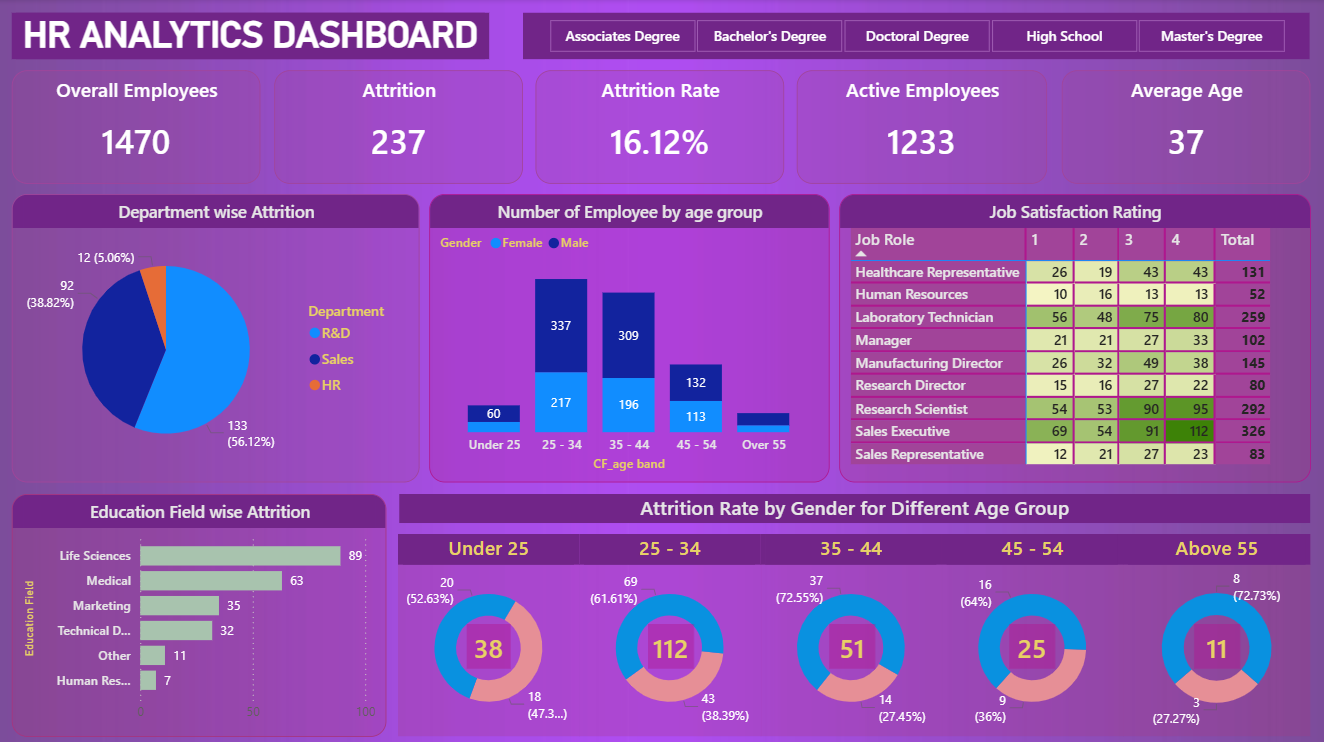

The page's visual inventory and layout, read from the dashboard file:
{"tool":"powerbi","page":{"name":"Page 1","canvas":[1280,720],"ordinal":0},"visuals":[{"type":"cardVisual","title":"Overall Employees","fields":{"Data":["CountNonNull(HR data.Employee Count)"]},"box":[13.3,68.8,240.1,109.8],"z":0},{"type":"cardVisual","title":"Attrition","fields":{"Data":["Sum(HR data.Attrition Count)"]},"box":[266.6,68.8,240.1,109.8],"z":1000},{"type":"cardVisual","title":"Attrition Rate","fields":{"Data":["HR data.Attrition Rate"]},"box":[518.8,68.8,240.1,109.8],"z":2000},{"type":"cardVisual","title":"Active Employees","fields":{"Data":["HR data.Active Employees"]},"box":[770.9,68.8,241.3,109.8],"z":3000},{"type":"cardVisual","title":"Average Age","fields":{"Data":["Avg(HR data.Age)"]},"box":[1026.7,68.8,240.1,109.8],"z":4000},{"type":"pieChart","title":"Department wise Attrition","fields":{"Category":["HR data.Department"],"Y":["Sum(HR data.Attrition Count)"]},"box":[13.3,188.2,393.3,278.7],"z":5000},{"type":"columnChart","title":"Number of Employee by age group","fields":{"Category":["HR data.CF_age band"],"Y":["Sum(HR data.Employee Count)"],"Series":["HR data.Gender"]},"box":[416.2,188.2,386.1,278.7],"z":6000},{"type":"pivotTable","title":"Job Satisfaction Rating","fields":{"Rows":["HR data.Job Role"],"Columns":["HR data.Job Satisfaction"],"Values":["Sum(HR data.Employee Count)"]},"box":[811.9,188.2,454.8,278.7],"z":7000},{"type":"barChart","title":"Education Field wise Attrition","fields":{"Category":["HR data.Education Field"],"Y":["Sum(HR data.Attrition Count)"]},"box":[13.3,477.8,361.9,234],"z":8000},{"type":"donutChart","title":"Under 25","fields":{"Category":["HR data.Gender"],"Y":["Sum(HR data.Attrition Count)"],"Series":["HR data.CF_age band"]},"box":[386.1,516.4,174.9,195.4],"z":9000},{"type":"textbox","title":"Attrition Rate by Gender for Different Age Group","box":[387.3,477.8,879.5,25.3],"z":10000},{"type":"donutChart","title":"25 - 34","fields":{"Category":["HR data.Gender"],"Y":["Sum(HR data.Attrition Count)"],"Series":["HR data.CF_age band"]},"box":[561,516.4,174.9,195.4],"z":11000},{"type":"donutChart","title":"35 - 44","fields":{"Category":["HR data.Gender"],"Y":["Sum(HR data.Attrition Count)"],"Series":["HR data.CF_age band"]},"box":[735.9,516.4,174.9,195.4],"z":12000},{"type":"donutChart","title":"45 - 54","fields":{"Category":["HR data.Gender"],"Y":["Sum(HR data.Attrition Count)"],"Series":["HR data.CF_age band"]},"box":[910.9,516.4,174.9,195.4],"z":13000},{"type":"donutChart","title":"Above 55","fields":{"Category":["HR data.Gender"],"Y":["Sum(HR data.Attrition Count)"],"Series":["HR data.CF_age band"]},"box":[1085.8,516.4,181,195.4],"z":14000},{"type":"cardVisual","fields":{"Data":["Sum(HR data.Attrition Count)"]},"box":[452.4,603.2,42.2,43.4],"z":15000},{"type":"cardVisual","fields":{"Data":["Sum(HR data.Attrition Count)"]},"box":[627.3,603.2,44.6,43.4],"z":16000},{"type":"cardVisual","fields":{"Data":["Sum(HR data.Attrition Count)"]},"box":[802.3,603.2,44.6,43.4],"z":17000},{"type":"cardVisual","fields":{"Data":["Sum(HR data.Attrition Count)"]},"box":[976,603.2,44.6,43.4],"z":18000},{"type":"cardVisual","fields":{"Data":["Sum(HR data.Attrition Count)"]},"box":[1154.6,603.2,44.6,43.4],"z":19000},{"type":"textbox","title":"HR ANALYTICS DASHBOARD","box":[13.3,13.3,460.9,44.6],"z":20000},{"type":"slicer","fields":{"Values":["HR data.Education"]},"box":[506.7,13.3,758.9,44.6],"z":21000}]}

Visuals, with their boxes in screenshot pixels (x1, y1, x2, y2), scaled from the page's 1280x720 canvas onto the 1324x742 screenshot:
"Overall Employees" cardVisual: select_region(14, 71, 262, 184)
"Attrition" cardVisual: select_region(276, 71, 524, 184)
"Attrition Rate" cardVisual: select_region(537, 71, 785, 184)
"Active Employees" cardVisual: select_region(797, 71, 1047, 184)
"Average Age" cardVisual: select_region(1062, 71, 1310, 184)
"Department wise Attrition" pieChart: select_region(14, 194, 421, 481)
"Number of Employee by age group" columnChart: select_region(431, 194, 830, 481)
"Job Satisfaction Rating" pivotTable: select_region(840, 194, 1310, 481)
"Education Field wise Attrition" barChart: select_region(14, 492, 388, 734)
"Under 25" donutChart: select_region(399, 532, 580, 734)
"Attrition Rate by Gender for Different Age Group" textbox: select_region(401, 492, 1310, 518)
"25 - 34" donutChart: select_region(580, 532, 761, 734)
"35 - 44" donutChart: select_region(761, 532, 942, 734)
"45 - 54" donutChart: select_region(942, 532, 1123, 734)
"Above 55" donutChart: select_region(1123, 532, 1310, 734)
cardVisual - Sum(HR data.Attrition Count): select_region(468, 622, 512, 666)
cardVisual - Sum(HR data.Attrition Count): select_region(649, 622, 695, 666)
cardVisual - Sum(HR data.Attrition Count): select_region(830, 622, 876, 666)
cardVisual - Sum(HR data.Attrition Count): select_region(1010, 622, 1056, 666)
cardVisual - Sum(HR data.Attrition Count): select_region(1194, 622, 1240, 666)
"HR ANALYTICS DASHBOARD" textbox: select_region(14, 14, 491, 60)
slicer - HR data.Education: select_region(524, 14, 1309, 60)
